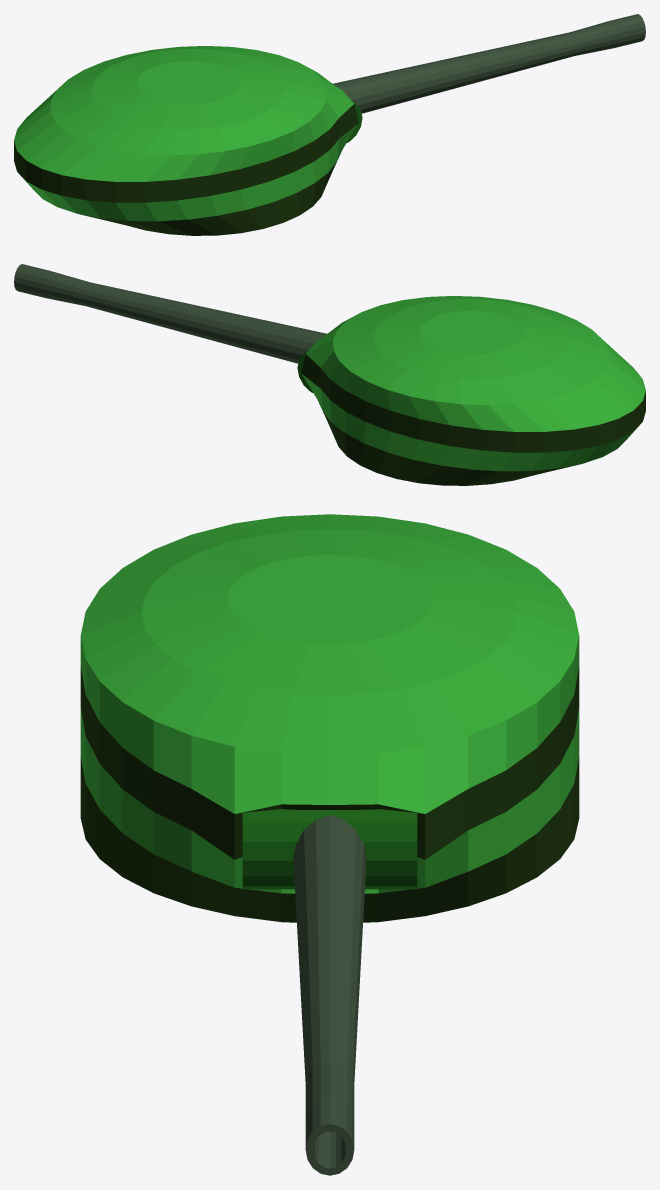
File: T-1 tank.fbx
3 renders of one model, top to bottom at view 1: azimuth 30°, elevation 25°; view 2: azimuth 150°, elevation 25°; view 3: azimuth 270°, elevation 25°, orthographic. The views are drawn at different scales.
Visible parts, largest first — view 1: Башня, Дуло; view 2: Башня, Дуло; view 3: Башня, Дуло, Подшипник.
Part boxes in pixels (left/top/right/bottom): Башня: left=14, top=46, right=358, bottom=235; Дуло: left=333, top=14, right=645, bottom=113; Башня: left=301, top=296, right=645, bottom=485; Дуло: left=14, top=264, right=326, bottom=363; Башня: left=80, top=514, right=579, bottom=922; Дуло: left=293, top=815, right=366, bottom=1175; Подшипник: left=242, top=809, right=417, bottom=889.
Bounding box in the file's own units: 569 × 91.9 × 200.
